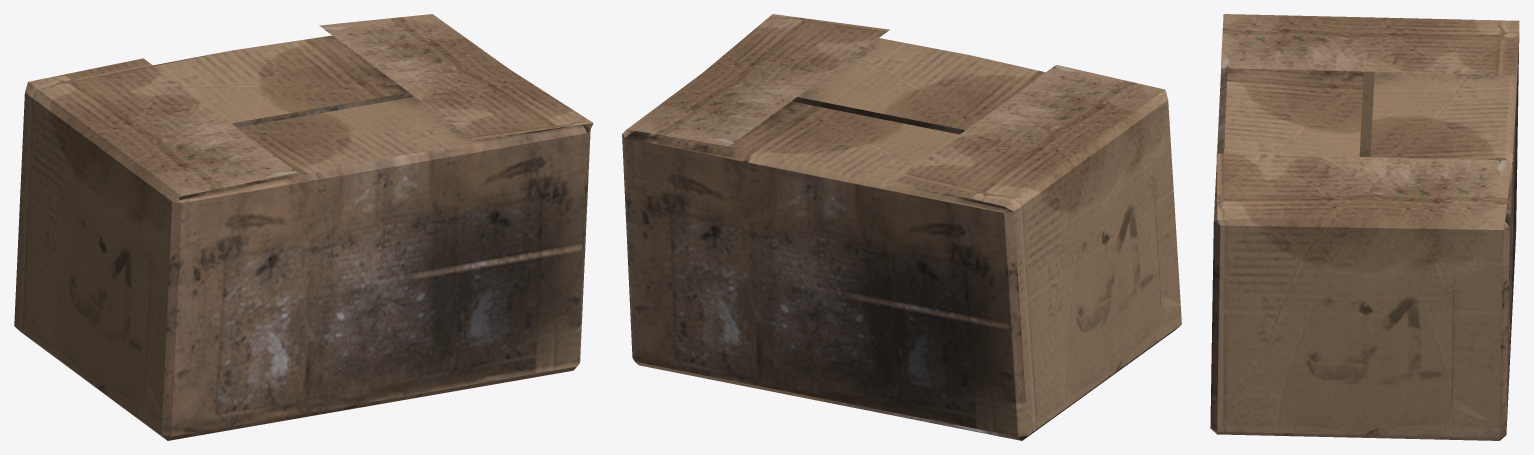
File: FlatShack246.gltf
3 views of the same model, side by side, from view 1: azimuth 30°, elevation 25°; view 2: azimuth 150°, elevation 25°; view 3: azimuth 270°, elevation 25° (orthographic). The views are drawn at different scales.
Parts seen in each view (by area): view 1: prop_Log_geo_091_bark_log_01_tx_0; view 2: prop_Log_geo_091_bark_log_01_tx_0; view 3: prop_Log_geo_091_bark_log_01_tx_0.
Part boxes in pixels (<box>): prop_Log_geo_091_bark_log_01_tx_0: <box>14,14,593,440</box>; prop_Log_geo_091_bark_log_01_tx_0: <box>622,14,1181,440</box>; prop_Log_geo_091_bark_log_01_tx_0: <box>1210,14,1519,440</box>.
Bounding box in the file's own units: 0.63 × 0.3812 × 0.4274.
Materials: 1 (1 with a texture image).
